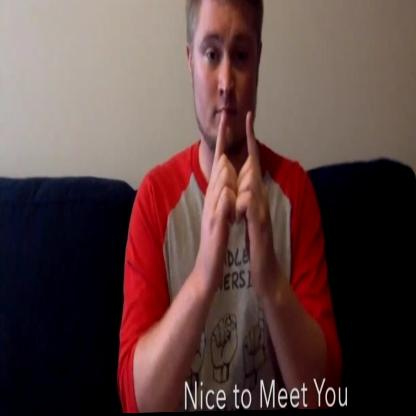NiceToMeetYou: (190, 104, 292, 304)
